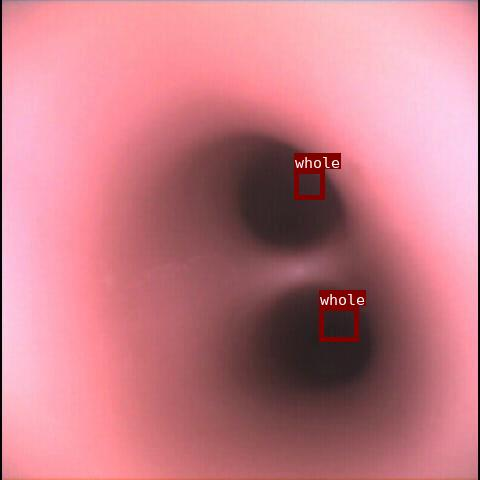whole: (319, 306, 358, 341), (294, 169, 324, 199)
